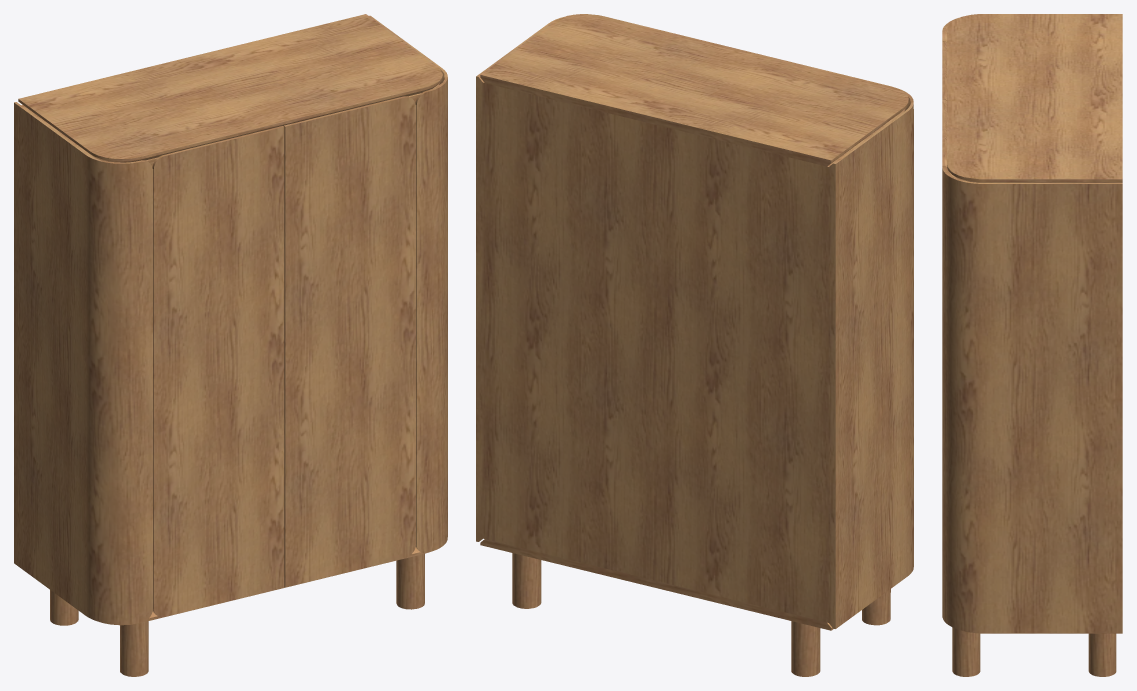
The model's file is sideboard-v5.glb.
3 views of the same model, side by side, from view 1: azimuth 30°, elevation 25°; view 2: azimuth 150°, elevation 25°; view 3: azimuth 270°, elevation 25° (orthographic). The views are drawn at different scales.
Size of the model in its own units: 1 by 1.4 by 0.45.
Materials: 2 (2 with a texture image).
